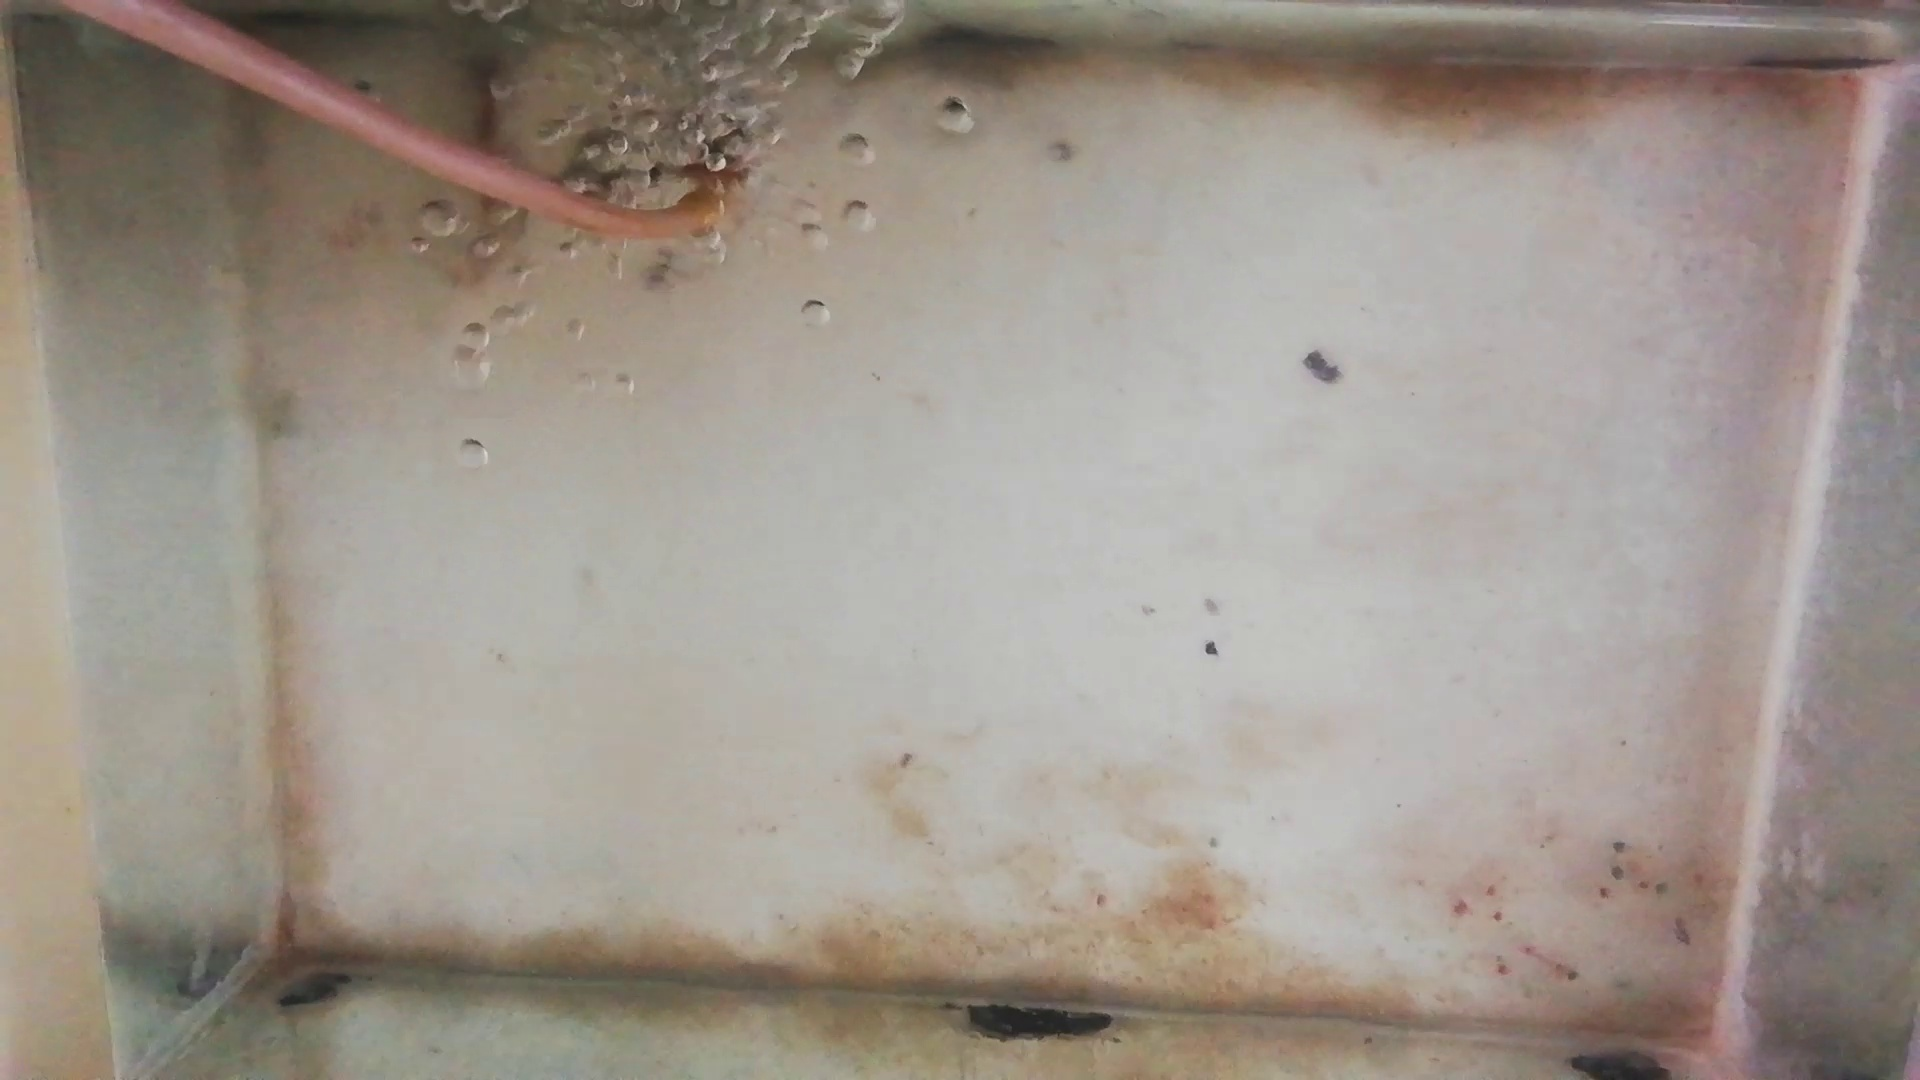fish: (545, 133, 683, 191), (469, 40, 508, 228)
